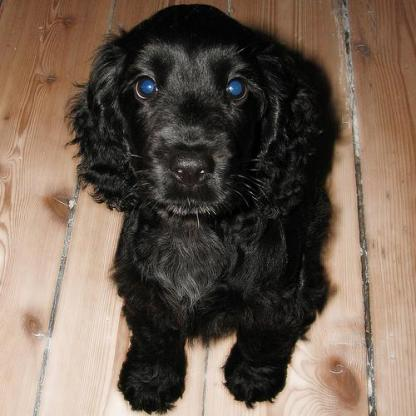cocker_spaniel: (61, 1, 332, 404)
